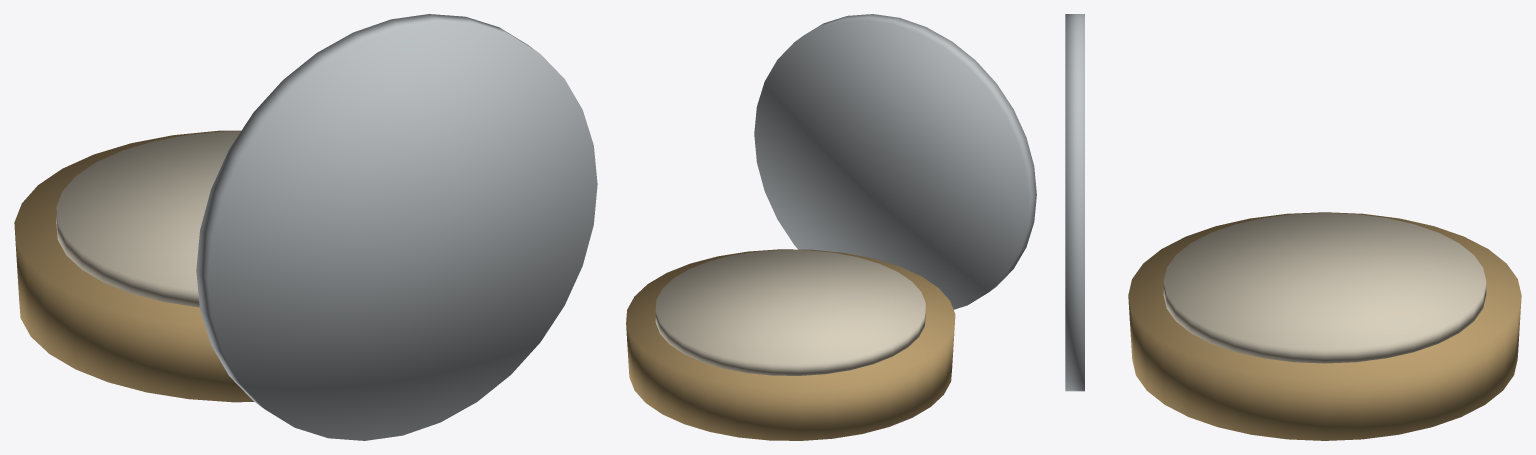
File: sku_v23_compact_open.glb
3 renders of one model, left to right at view 1: azimuth 30°, elevation 25°; view 2: azimuth 150°, elevation 25°; view 3: azimuth 270°, elevation 25°, orthographic. The views are drawn at different scales.
Parts seen in each view (by area): view 1: sku_v23_compact_open_Brushed_stainless, sku_v23_compact_open_V23_satin_brass, sku_v23_compact_open_V23_natural_canvas; view 2: sku_v23_compact_open_Brushed_stainless, sku_v23_compact_open_V23_natural_canvas, sku_v23_compact_open_V23_satin_brass; view 3: sku_v23_compact_open_V23_natural_canvas, sku_v23_compact_open_V23_satin_brass, sku_v23_compact_open_Brushed_stainless.
Boxes of the visible parts, x1=… form: sku_v23_compact_open_Brushed_stainless: x1=196, y1=14, x2=597, y2=440; sku_v23_compact_open_V23_satin_brass: x1=14, y1=130, x2=254, y2=402; sku_v23_compact_open_V23_natural_canvas: x1=56, y1=131, x2=240, y2=307; sku_v23_compact_open_Brushed_stainless: x1=754, y1=14, x2=1036, y2=309; sku_v23_compact_open_V23_natural_canvas: x1=655, y1=250, x2=925, y2=375; sku_v23_compact_open_V23_satin_brass: x1=626, y1=249, x2=955, y2=440; sku_v23_compact_open_V23_natural_canvas: x1=1163, y1=213, x2=1486, y2=363; sku_v23_compact_open_V23_satin_brass: x1=1128, y1=212, x2=1521, y2=440; sku_v23_compact_open_Brushed_stainless: x1=1065, y1=14, x2=1084, y2=391.
Size of the model in its own units: 0.1 by 0.096 by 0.116.
